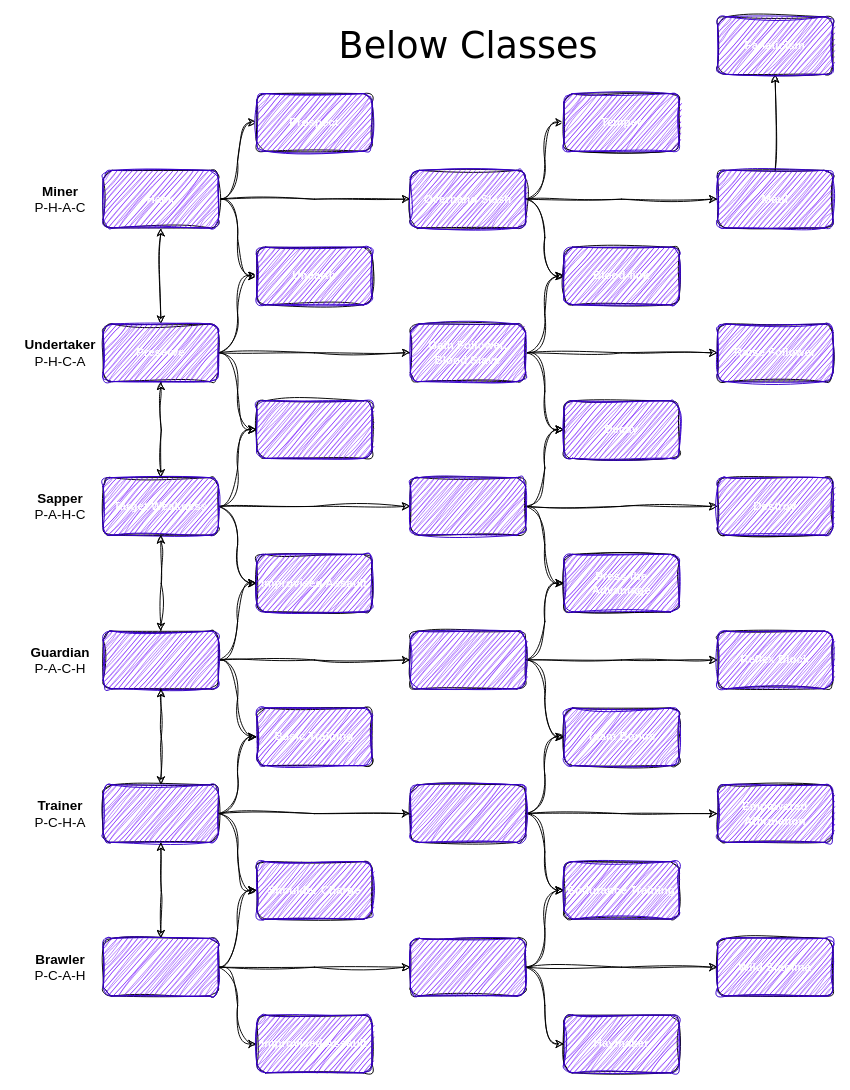
Image size: 850x1090. Some labels were removed from this diagram. Each missing label, with the centre of its shape:
"Bloody Knuckles" goes at pixel 160 966.
"Cross Fit" goes at pixel 467 813.
"Defense Aura" goes at pixel 467 659.
"Drunken Rampage" goes at pixel 467 966.
"Exploit Weakness" goes at pixel 467 506.
"Haunting Theme" goes at pixel 314 429.
"Shield Bash" goes at pixel 160 659.
"Team Lift" goes at pixel 160 813.
